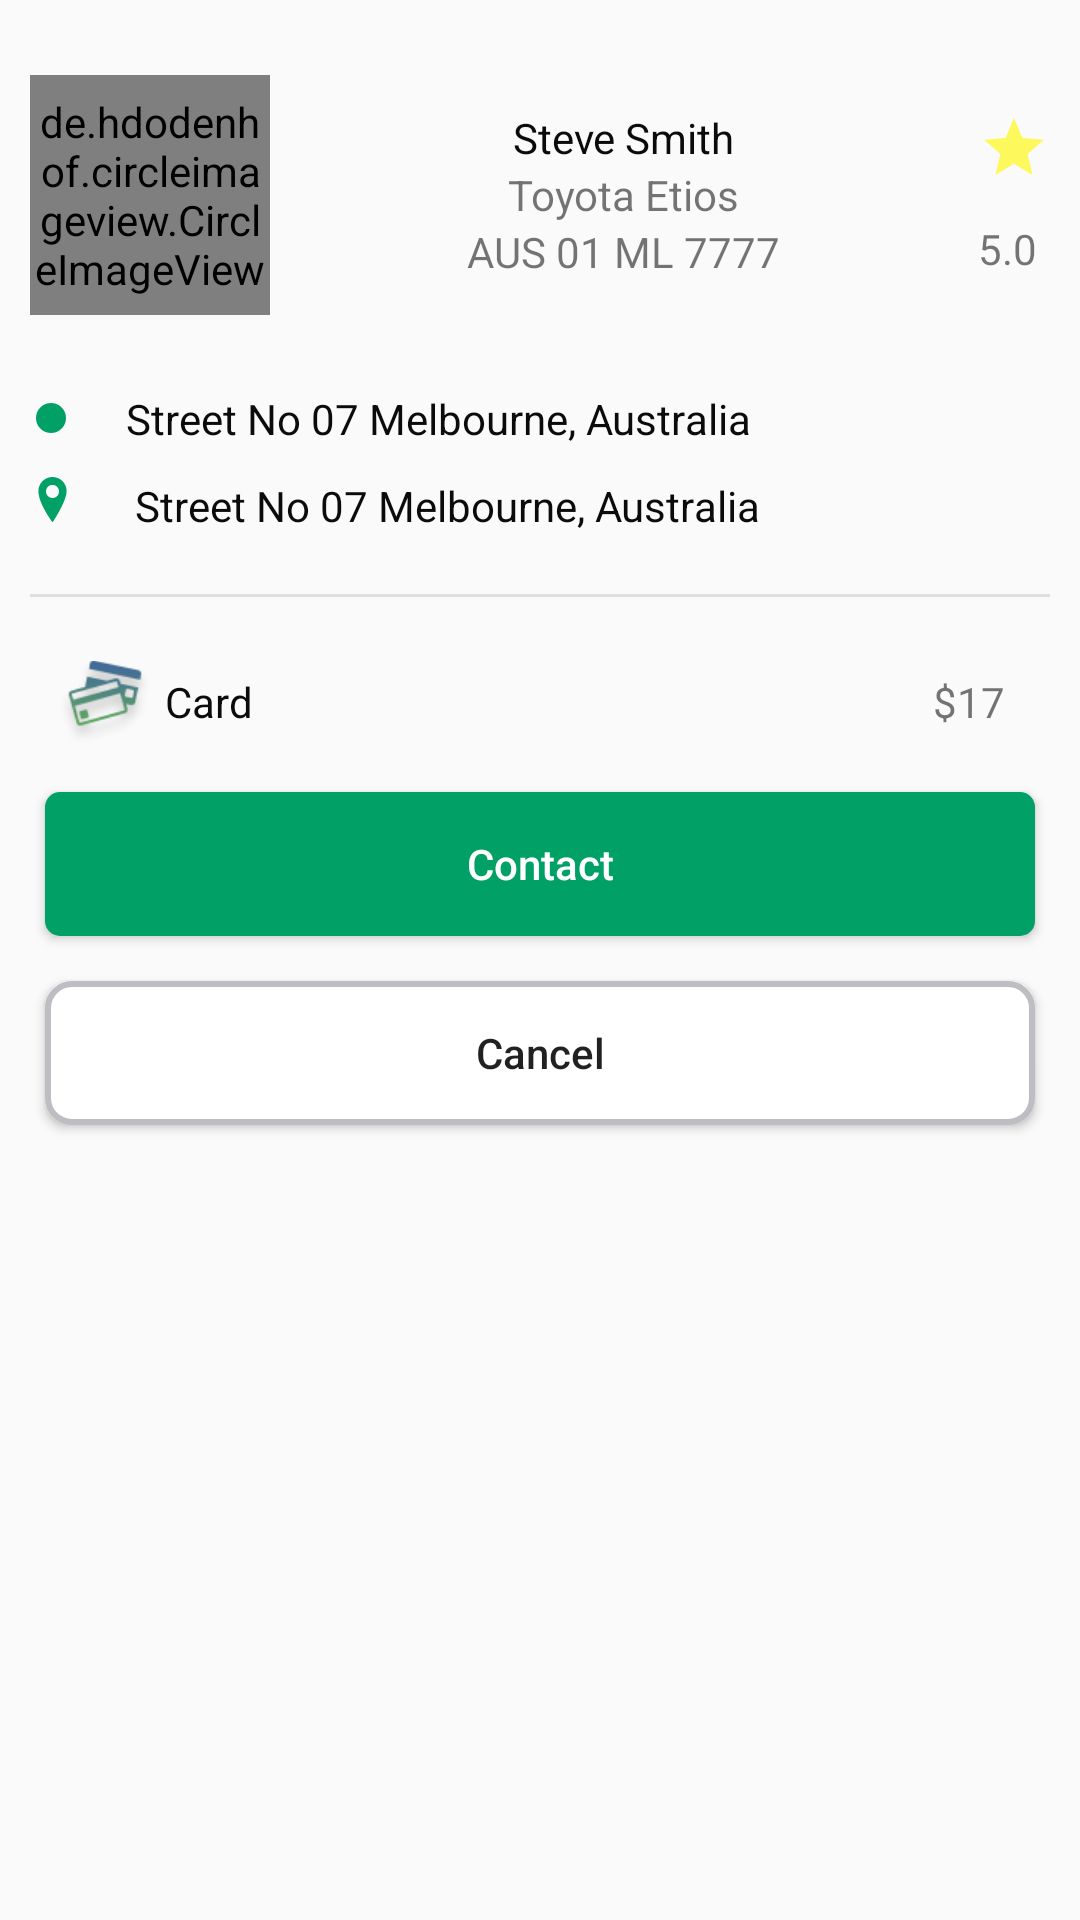

Where icons sit on this 1080 × 1920 app screen, as (x1, y1, x2, y2):
location marker: (38, 477, 67, 522)
star: (984, 118, 1044, 175)
